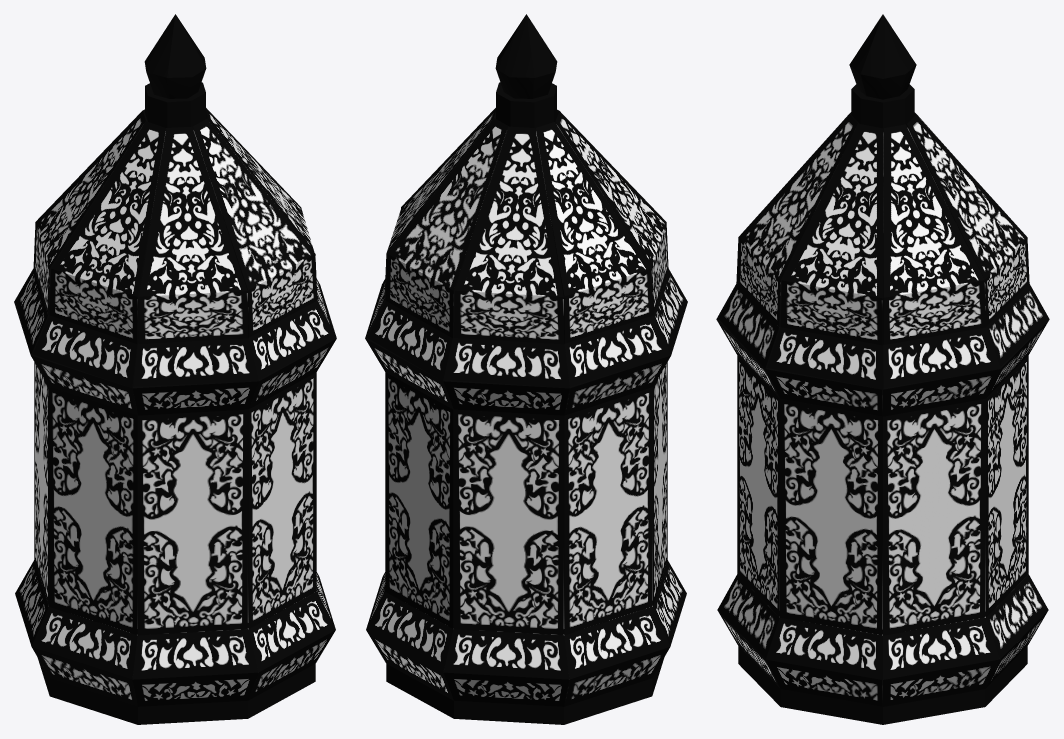
File: Arabic Lantern.fbx
The picture shows the model from 3 angles, left to right: view 1: azimuth 30°, elevation 25°; view 2: azimuth 150°, elevation 25°; view 3: azimuth 270°, elevation 25°; orthographic projection.
Visible parts, largest first — view 1: pCylinder97, pCylinder92, pCylinder100, pCylinder108, pCylinder93, pCylinder107, pCylinder102, pCylinder106, pCylinder77, pCylinder89, pCylinder94, pCylinder91 (+14 smaller); view 2: pCylinder109, pCylinder71, pCylinder110, pCylinder117, pCylinder89, pCylinder114, pCylinder113, pCylinder120, pCylinder77, pCylinder93, pCylinder72, pCylinder74 (+14 smaller); view 3: pCylinder86, pCylinder96, pCylinder76, pCylinder82, pCylinder108, pCylinder117, pCylinder114, pCylinder107, pCylinder77, pCylinder80, pCylinder87, pCylinder84 (+15 smaller).
Boxes of the visible parts, x1,y1,x2,y2 form: pCylinder97: (137,409,248,635); pCylinder92: (49,387,137,635); pCylinder100: (138,126,248,343); pCylinder108: (248,372,316,628); pCylinder93: (49,121,166,344); pCylinder107: (192,118,317,337); pCylinder102: (132,629,258,679); pCylinder106: (133,338,258,386); pCylinder77: (37,657,315,724); pCylinder89: (34,111,147,315); pCylinder94: (31,607,137,679); pCylinder91: (33,315,137,388); pCylinder109: (453,409,564,635); pCylinder71: (564,387,652,635); pCylinder110: (454,126,564,344); pCylinder117: (385,372,453,628); pCylinder89: (535,122,653,343); pCylinder114: (385,118,508,337); pCylinder113: (443,629,569,679); pCylinder120: (444,338,569,388); pCylinder77: (386,657,664,724); pCylinder93: (554,111,668,312); pCylinder72: (564,607,670,679); pCylinder74: (564,315,670,386); pCylinder86: (780,398,882,635); pCylinder96: (883,398,985,635); pCylinder76: (780,123,883,345); pCylinder82: (883,124,986,344); pCylinder108: (737,355,779,617); pCylinder117: (986,355,1028,617); pCylinder114: (906,114,1029,326); pCylinder107: (737,114,859,327); pCylinder77: (738,646,1027,724); pCylinder80: (883,618,999,679); pCylinder87: (766,618,882,679); pCylinder84: (883,327,1000,387).
Size of the model in its own units: 14.07 by 30.26 by 14.07.
